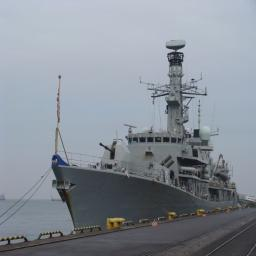Fragata: (50, 26, 244, 242)
